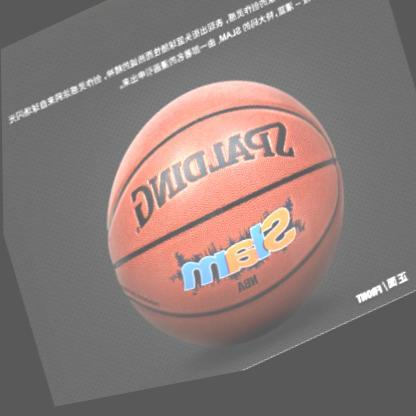basketball: (73, 40, 374, 405)
